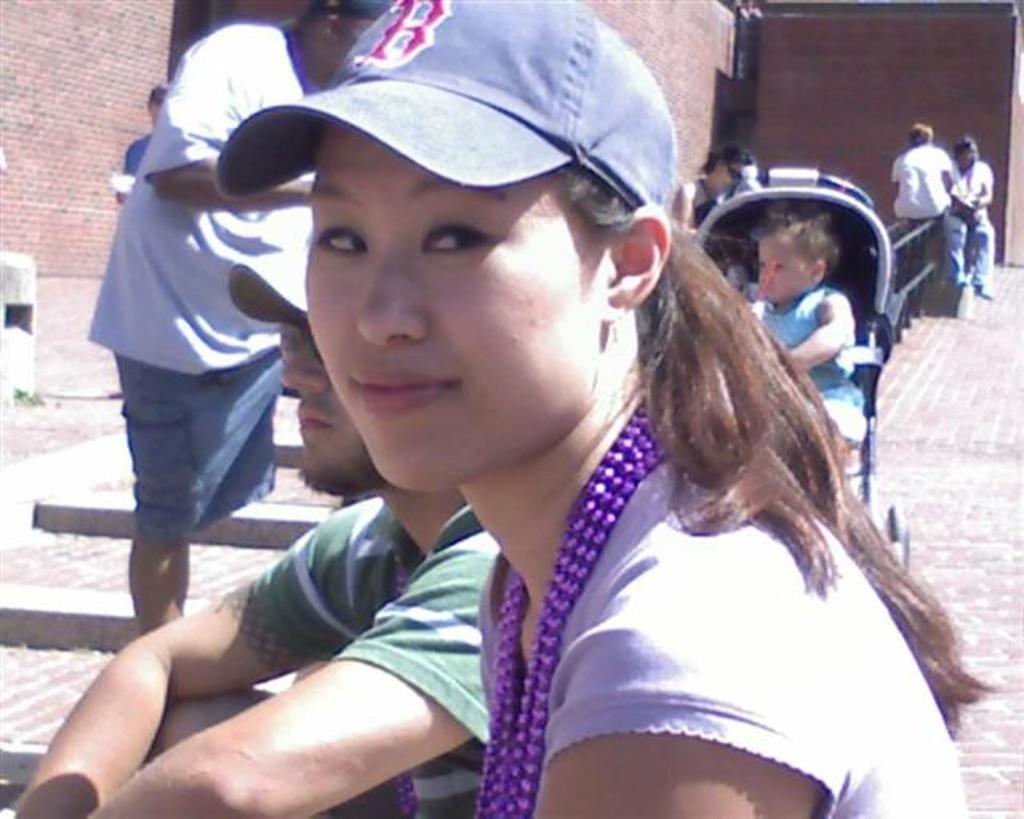Hat: (217, 0, 676, 209)
